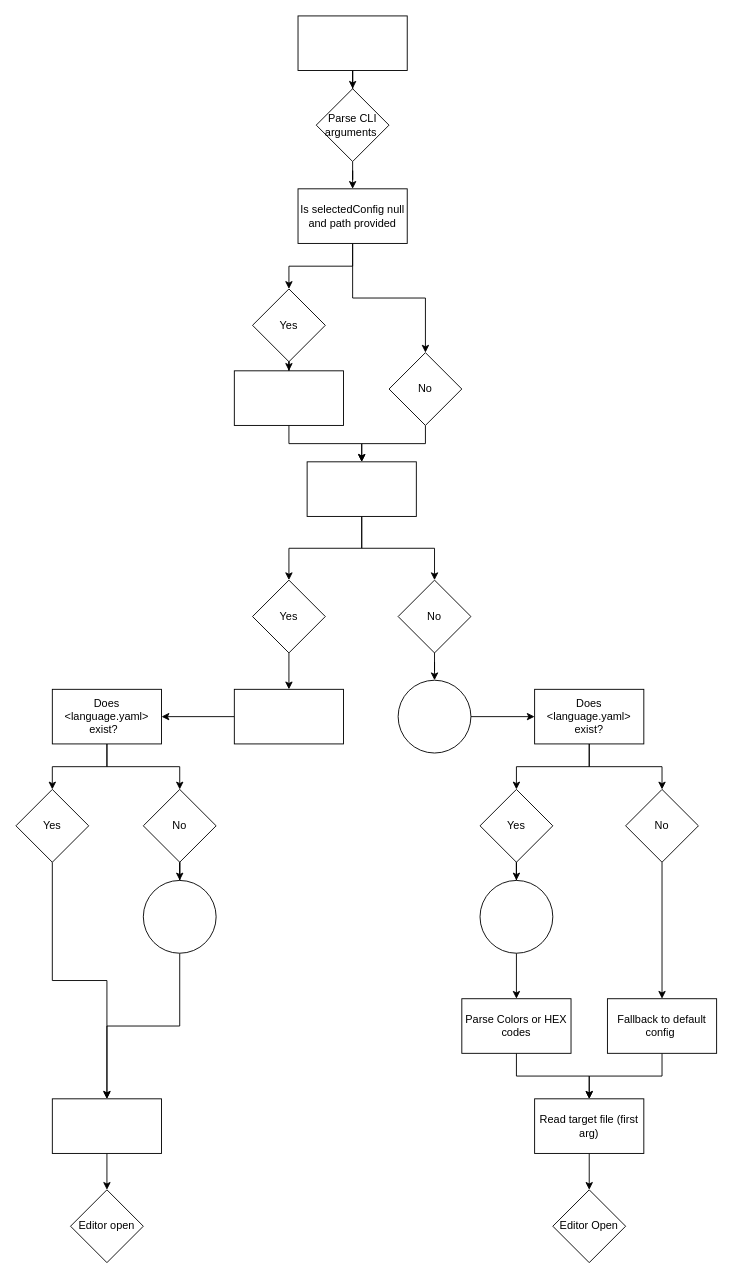
The diagram is 733 pixels wide and 1279 high, and some of its shapes have lost their labels. Each missing label, with the centre of its shape:
Config: DetectLanguageFromPath(): (x=288, y=397)
Edit config file: (x=288, y=716)
Generate default config: (x=179, y=916)
Is --config flag passed?: (x=361, y=488)
Parse YAML file and load: (x=516, y=916)
Read YAML contents: (x=106, y=1125)
Regular editor: (x=434, y=716)
Start Execution (mille <file> [flags])]: (x=352, y=43)
